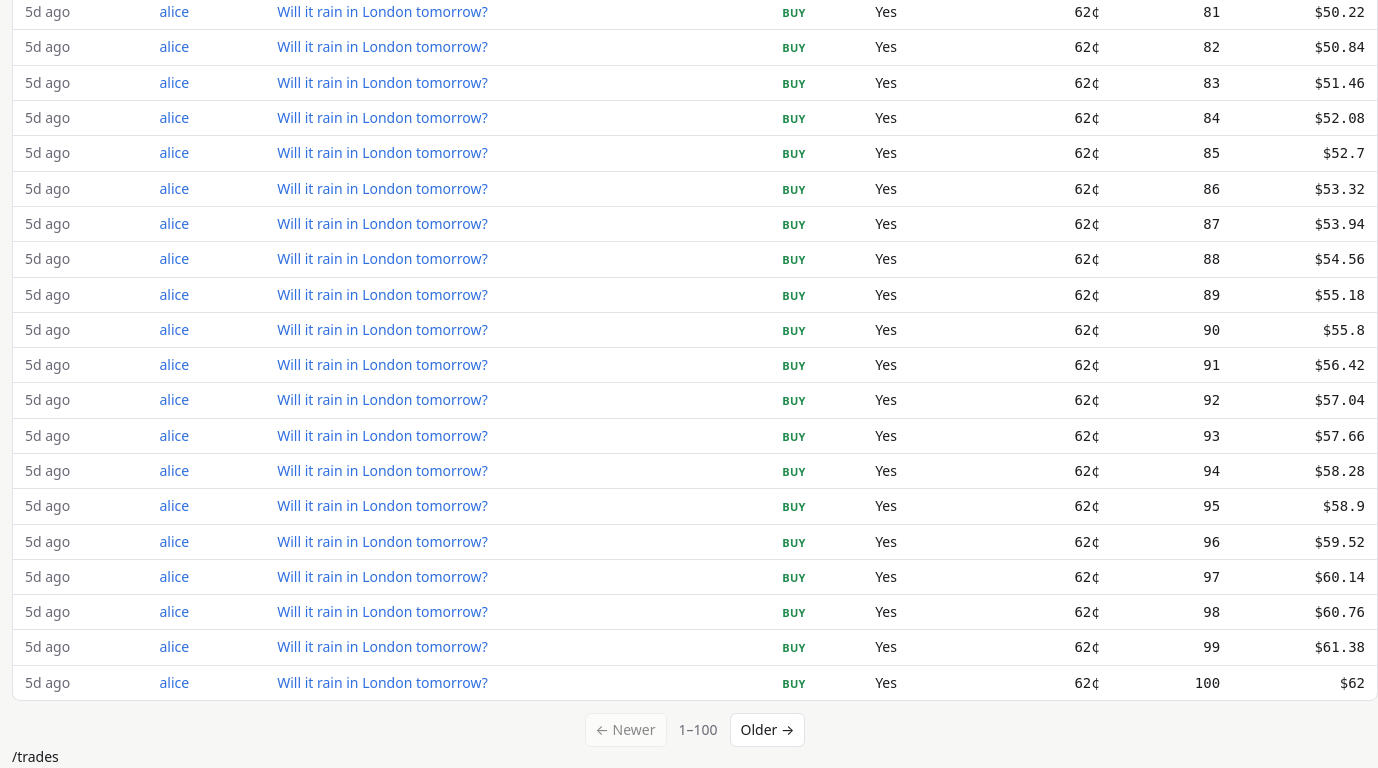
Trades page › pages to older trades when a full page came back
(page scrolled)
Expected: the button "← Newer" is disabled, x1=585 y1=713 x2=666 y2=747
Expected: the text "1–100" is shown, x1=678 y1=720 x2=718 y2=740
Click the button "Older →".
click(768, 730)  # box x1=730 y1=713 x2=805 y2=747
(page scrolled)
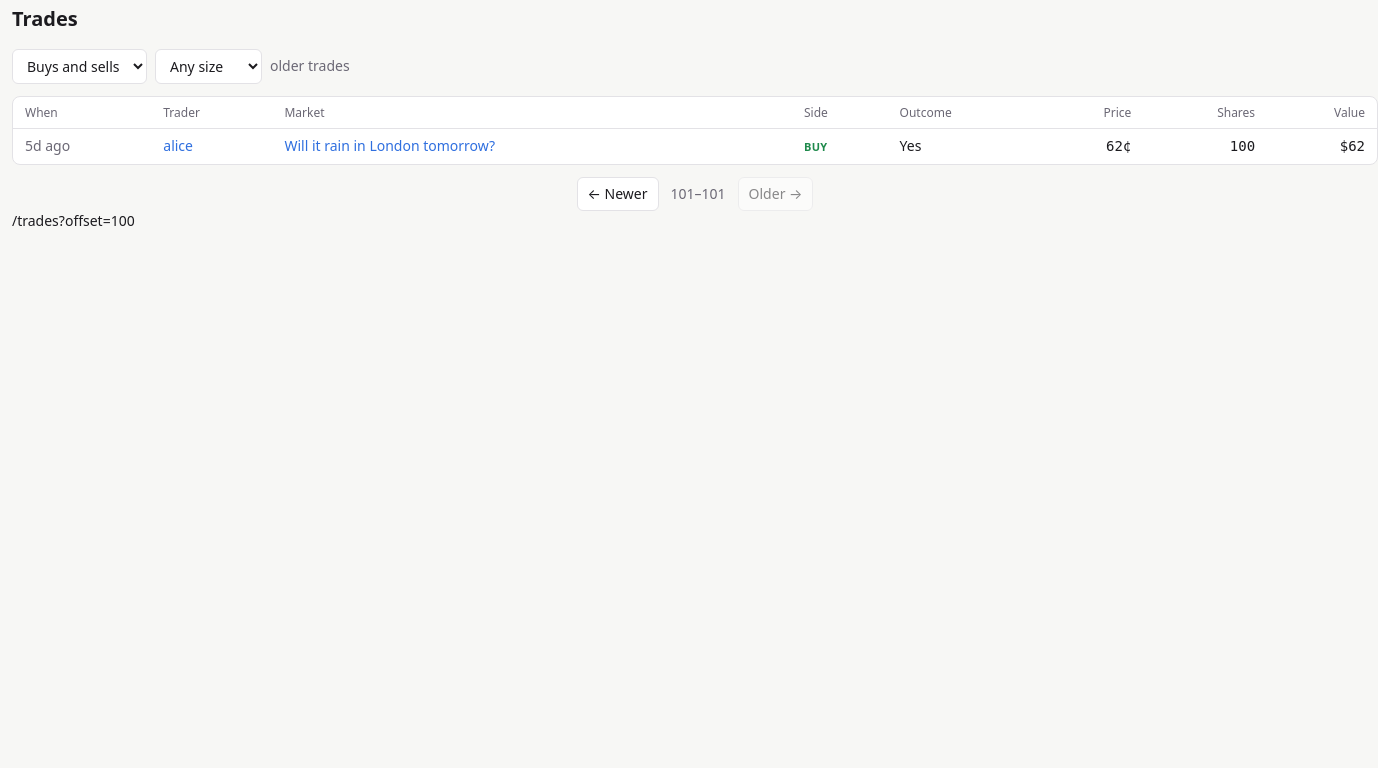
Expected: the text with test id "location" reads "/trades?offset=100", x1=12 y1=211 x2=135 y2=230
Expected: the text "101–101" is shown, x1=670 y1=184 x2=726 y2=204
Expected: the button "Older →" is disabled, x1=738 y1=177 x2=813 y2=211
